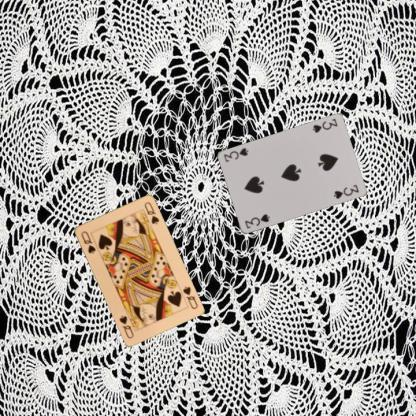3s: (242, 211, 271, 230), (310, 116, 338, 134)
Qs: (180, 284, 199, 310), (78, 228, 96, 255)
